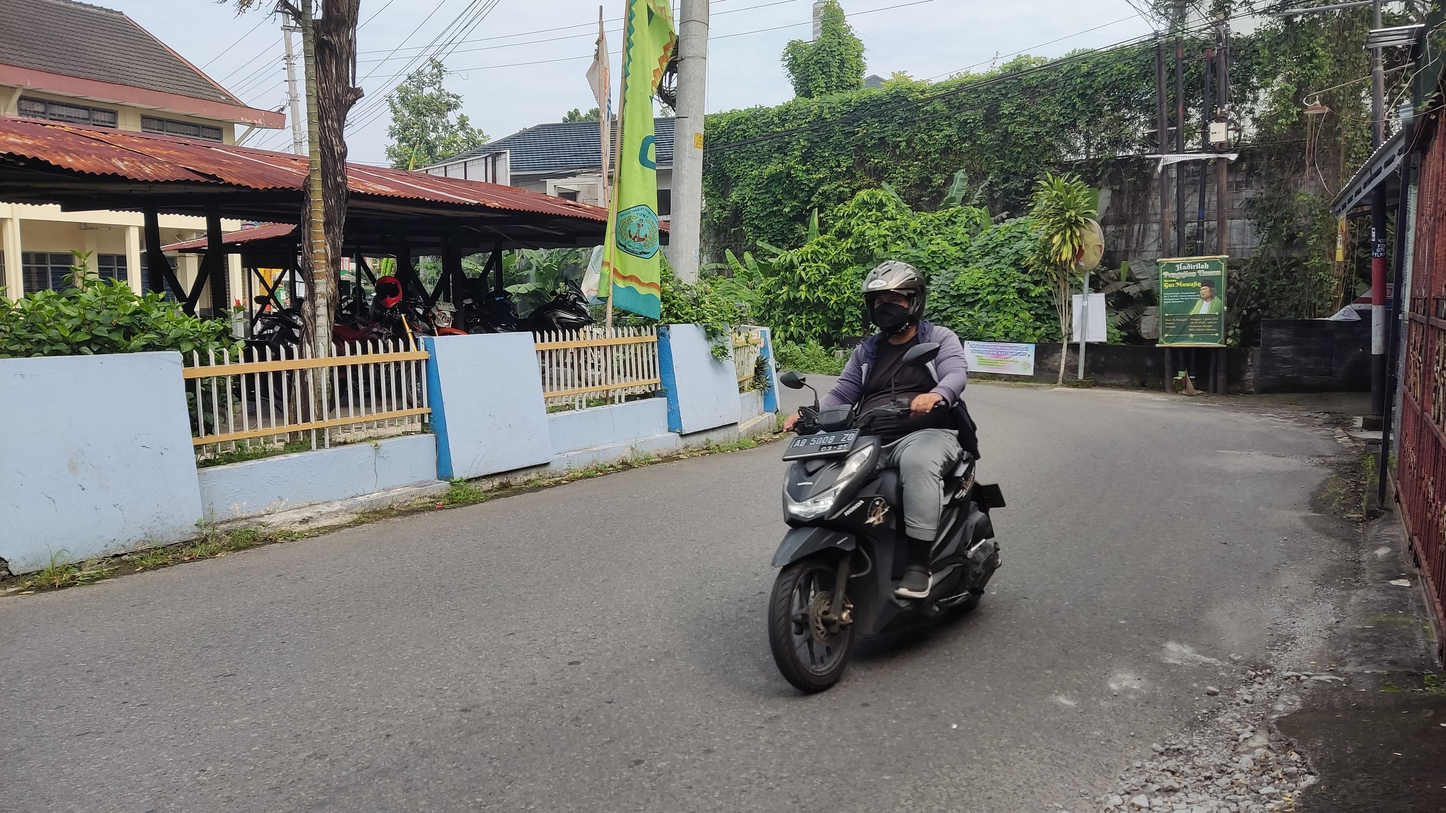helm: (858, 259, 929, 338)
riding: (765, 258, 1008, 695)
